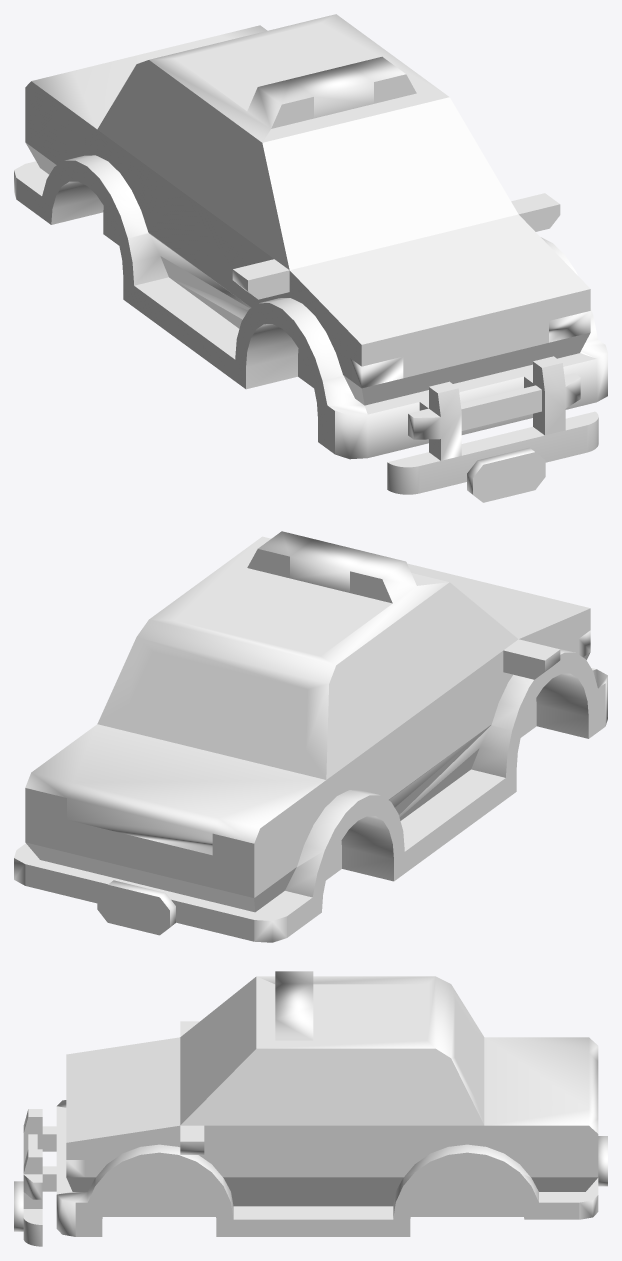
Rendered from police-vehicle.glb.
3 views of the same model, one above another, from view 1: azimuth 30°, elevation 25°; view 2: azimuth 150°, elevation 25°; view 3: azimuth 270°, elevation 25° (orthographic). The views are drawn at different scales.
Visible parts, largest first — view 1: police-vehicle; view 2: police-vehicle; view 3: police-vehicle.
Part boxes in pixels (bbox=[...]): police-vehicle: bbox=[14, 14, 607, 502]; police-vehicle: bbox=[14, 531, 607, 942]; police-vehicle: bbox=[14, 971, 607, 1246].
Size of the model in its own units: 1.5 by 1.31 by 3.12.
1 material, 1 textured.
